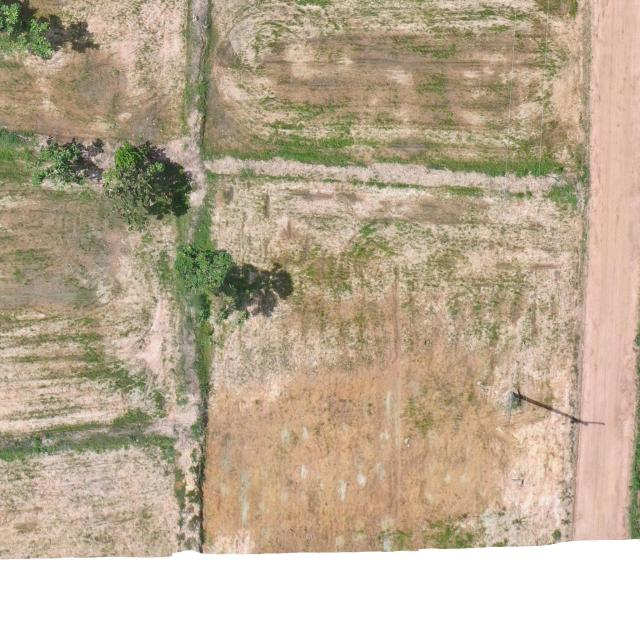Tree: (100, 138, 178, 234), (0, 0, 55, 61), (28, 136, 89, 187), (173, 243, 235, 293)
